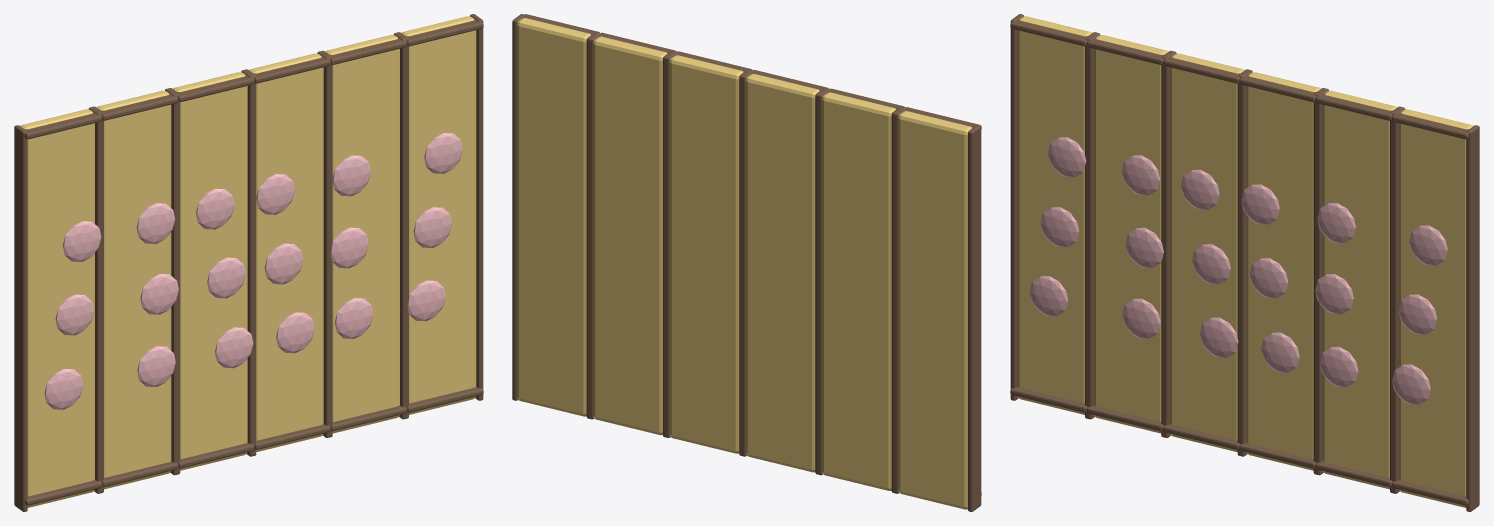
Rendered from stage_byobu_gold.glb.
The picture shows the model from 3 angles, left to right: view 1: azimuth 30°, elevation 25°; view 2: azimuth 150°, elevation 25°; view 3: azimuth 330°, elevation 25°; orthographic projection.
Parts seen in each view (by area): view 1: Standing six panel byobu gold leaf.001, Standing six panel byobu gold leaf, Standing six panel byobu gold leaf.002, Standing six panel byobu gold leaf.005, Standing six panel byobu gold leaf.004, Standing six panel byobu gold leaf.003, Black lacquer border, Black lacquer border.011, Black lacquer border.009, Black lacquer border.007, Black lacquer border.005, Black lacquer border.003 (+36 smaller); view 2: Standing six panel byobu gold leaf.002, Standing six panel byobu gold leaf.003, Standing six panel byobu gold leaf.001, Standing six panel byobu gold leaf.004, Standing six panel byobu gold leaf.005, Standing six panel byobu gold leaf, Black lacquer border, Black lacquer border.011, Black lacquer border.007, Black lacquer border.009, Black lacquer border.001, Black lacquer border.003 (+6 smaller); view 3: Standing six panel byobu gold leaf.004, Standing six panel byobu gold leaf.005, Standing six panel byobu gold leaf.003, Standing six panel byobu gold leaf, Standing six panel byobu gold leaf.001, Standing six panel byobu gold leaf.002, Black lacquer border.011, Black lacquer border, Black lacquer border.004, Black lacquer border.006, Black lacquer border.002, Black lacquer border.008 (+36 smaller).
Boxes of the visible parts, <box> form: Standing six panel byobu gold leaf.001: <box>96,90,171,489</box>; Standing six panel byobu gold leaf: <box>20,109,94,507</box>; Standing six panel byobu gold leaf.002: <box>173,72,247,470</box>; Standing six panel byobu gold leaf.005: <box>402,16,476,414</box>; Standing six panel byobu gold leaf.004: <box>325,35,399,433</box>; Standing six panel byobu gold leaf.003: <box>249,53,323,451</box>; Black lacquer border: <box>14,125,27,511</box>; Black lacquer border.011: <box>470,14,483,400</box>; Black lacquer border.009: <box>393,32,406,419</box>; Black lacquer border.007: <box>317,51,329,437</box>; Black lacquer border.005: <box>241,70,253,456</box>; Black lacquer border.003: <box>165,88,177,475</box>; Standing six panel byobu gold leaf.002: <box>745,74,819,472</box>; Standing six panel byobu gold leaf.003: <box>669,55,743,453</box>; Standing six panel byobu gold leaf.001: <box>822,92,895,490</box>; Standing six panel byobu gold leaf.004: <box>593,36,667,435</box>; Standing six panel byobu gold leaf.005: <box>517,18,590,416</box>; Standing six panel byobu gold leaf: <box>898,111,971,509</box>; Black lacquer border: <box>968,125,981,511</box>; Black lacquer border.011: <box>512,14,525,400</box>; Black lacquer border.007: <box>665,51,677,437</box>; Black lacquer border.009: <box>589,32,601,419</box>; Black lacquer border.001: <box>894,107,906,493</box>; Black lacquer border.003: <box>818,88,830,475</box>; Standing six panel byobu gold leaf.004: <box>1322,90,1397,489</box>; Standing six panel byobu gold leaf.005: <box>1399,109,1473,507</box>; Standing six panel byobu gold leaf.003: <box>1246,72,1320,470</box>; Standing six panel byobu gold leaf: <box>1017,16,1091,414</box>; Standing six panel byobu gold leaf.001: <box>1094,35,1168,433</box>; Standing six panel byobu gold leaf.002: <box>1170,53,1244,451</box>; Black lacquer border.011: <box>1466,125,1479,511</box>; Black lacquer border: <box>1010,14,1023,400</box>; Black lacquer border.004: <box>1164,51,1176,437</box>; Black lacquer border.006: <box>1240,70,1252,456</box>; Black lacquer border.002: <box>1087,32,1100,419</box>; Black lacquer border.008: <box>1316,88,1328,475</box>.
Bounding box in the file's own units: 1.95 × 1.54 × 0.0952.
